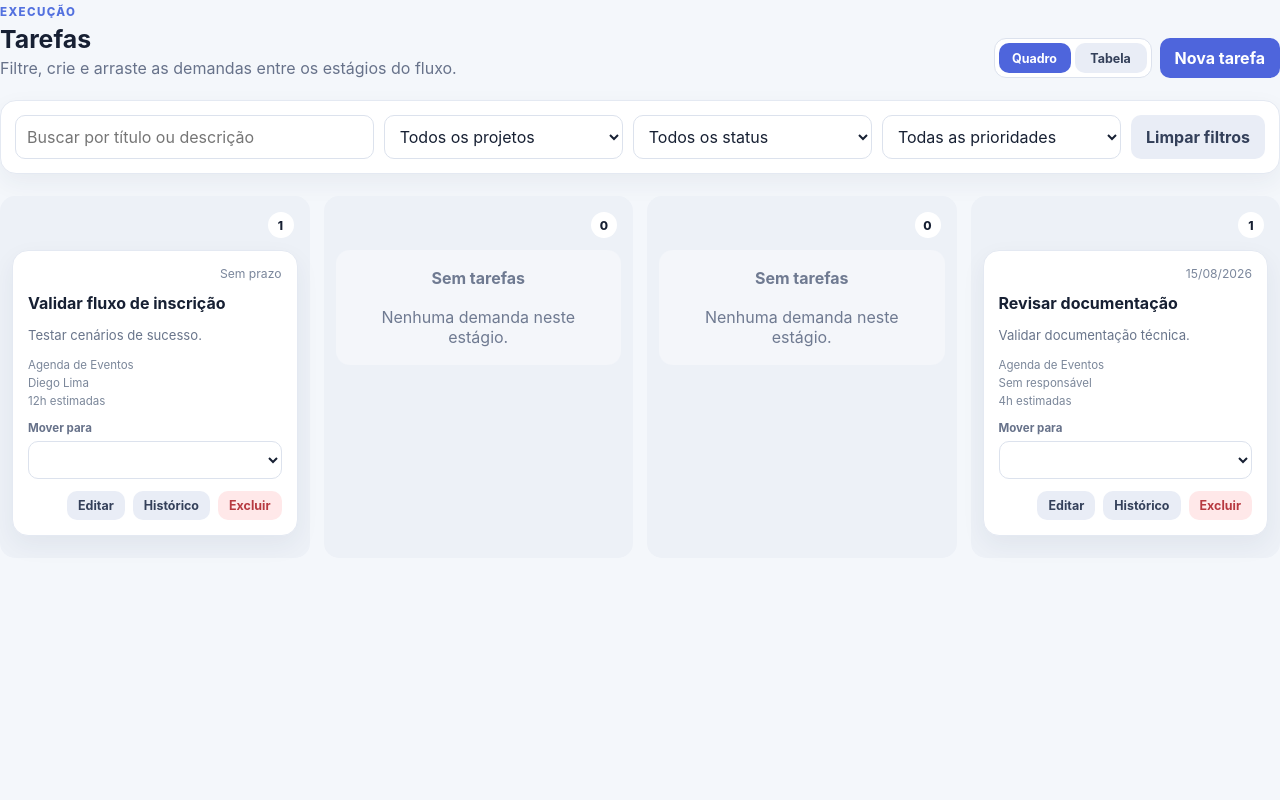
it: TasksPage › opens the history modal for a task card
Click the button "Histórico" below "12" at (171, 506), box [133,491,210,520]
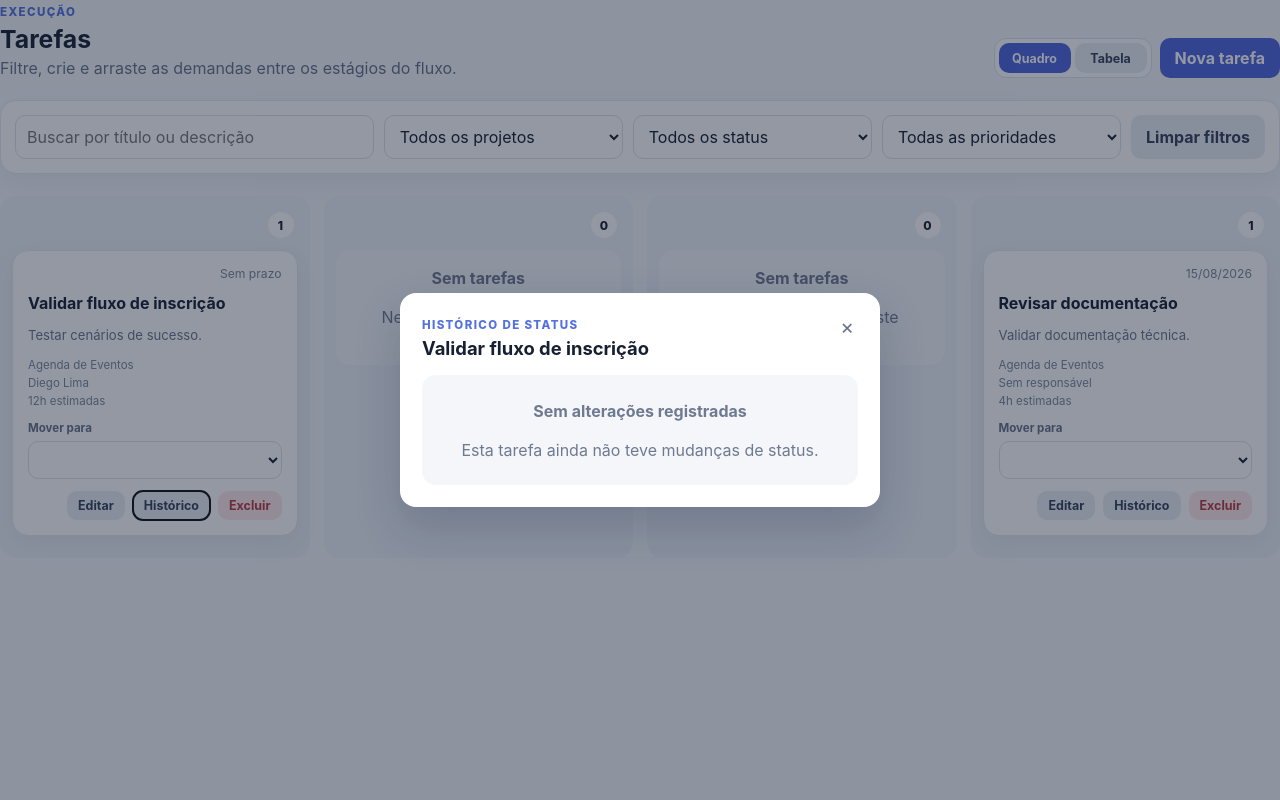
Expected: the heading "Validar fluxo de inscrição" is shown, [422,337,649,359]
